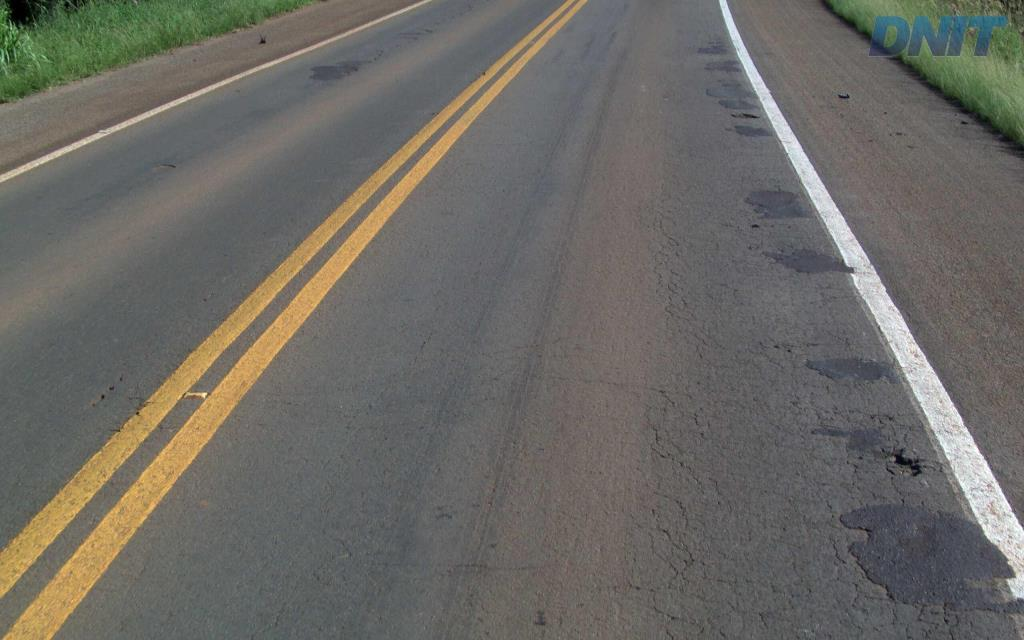pothole: (880, 441, 923, 479), (725, 108, 764, 128)
